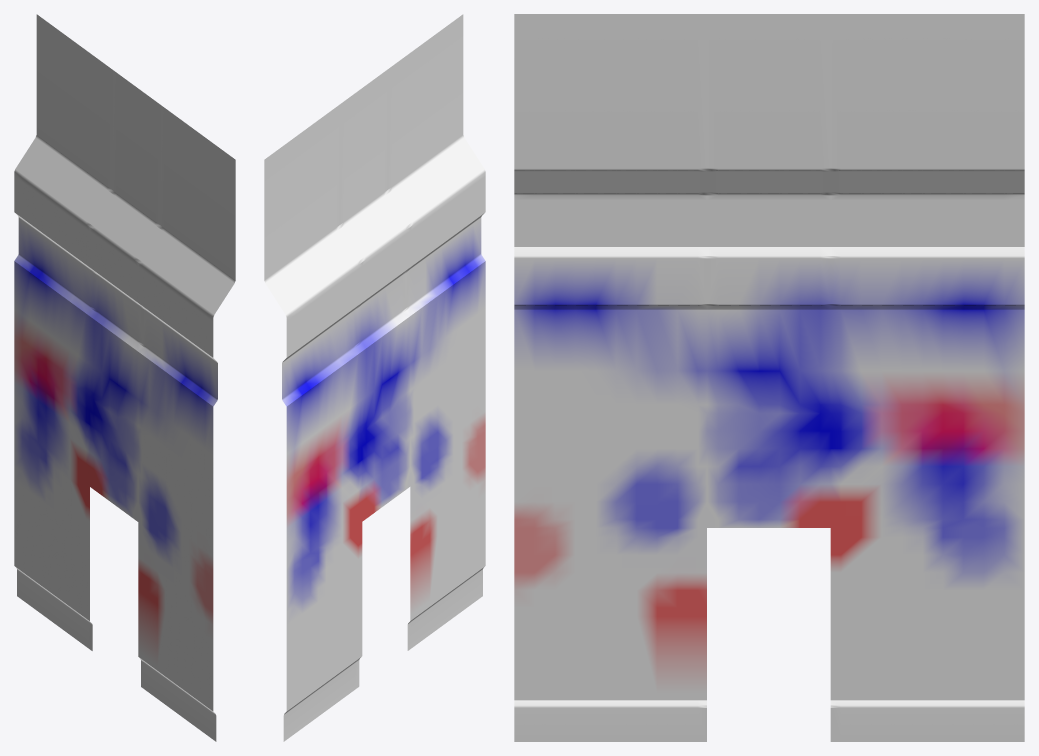
The picture shows the model from 3 angles, left to right: view 1: azimuth 30°, elevation 25°; view 2: azimuth 150°, elevation 25°; view 3: azimuth 270°, elevation 25°; orthographic projection. The views are drawn at different scales.
Parts seen in each view (by area): view 1: SM_Platform_Wall_Large_05_LOD0; view 2: SM_Platform_Wall_Large_05_LOD0; view 3: SM_Platform_Wall_Large_05_LOD0.
Boxes of the visible parts, x1,y1,x2,y2 form: SM_Platform_Wall_Large_05_LOD0: (14,14,235,741); SM_Platform_Wall_Large_05_LOD0: (264,14,485,741); SM_Platform_Wall_Large_05_LOD0: (514,14,1024,741).
Bounding box in the file's own units: 32.32 × 500 × 800.
